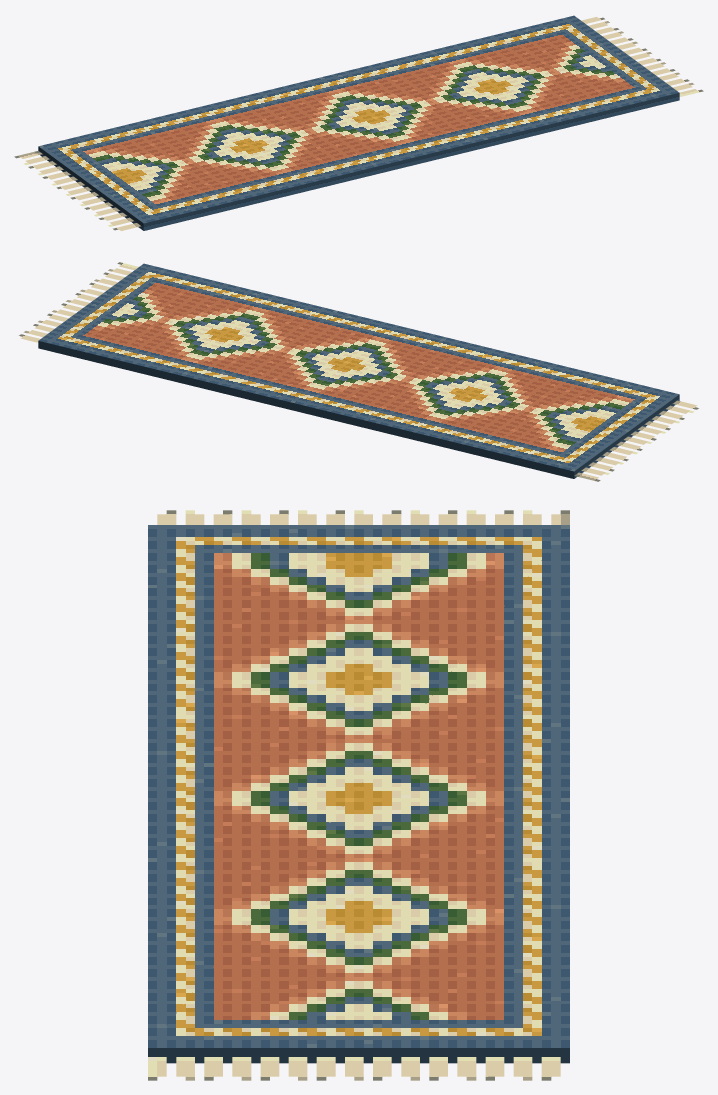
Rendered from kilim_runner.glb.
3 renders of one model, top to bottom at view 1: azimuth 30°, elevation 25°; view 2: azimuth 150°, elevation 25°; view 3: azimuth 270°, elevation 25°, orthographic. The views are drawn at different scales.
Visible parts, largest first — view 1: rug, fringe, fringe1; view 2: rug, fringe, fringe1; view 3: rug, fringe1, fringe.
Boxes of the visible parts, left/top/right/bottom form: rug: left=38, top=15, right=679, bottom=230; fringe: left=14, top=151, right=140, bottom=230; fringe1: left=581, top=17, right=703, bottom=96; rug: left=38, top=263, right=679, bottom=478; fringe: left=574, top=400, right=698, bottom=481; fringe1: left=19, top=262, right=138, bottom=342; rug: left=148, top=525, right=569, bottom=1063; fringe1: left=148, top=1057, right=560, bottom=1080; fringe: left=157, top=510, right=569, bottom=524.
Bounding box in the file's own units: 3 × 0.0375 × 0.9375.
Materials: 2 (2 with a texture image).
